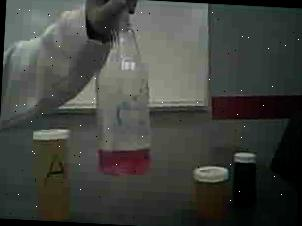Bottle A: (25, 123, 78, 222)
Bottle B: (188, 160, 229, 222)
Bottle C: (229, 146, 264, 211)
hazard: (89, 3, 167, 183)
